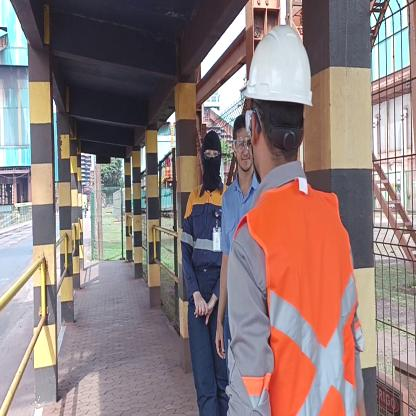Balaclava: (199, 131, 222, 190)
Capacete: (247, 23, 313, 105)
Operacional: (182, 184, 222, 274), (183, 186, 222, 266)
colete: (247, 205, 366, 416)
